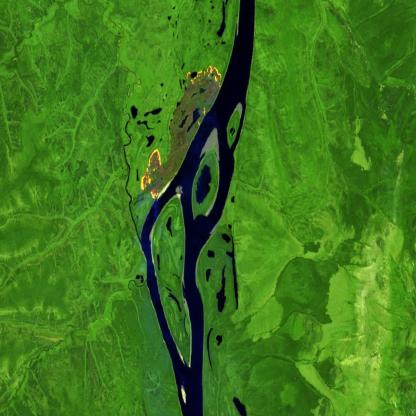fire: (138, 57, 230, 203)
